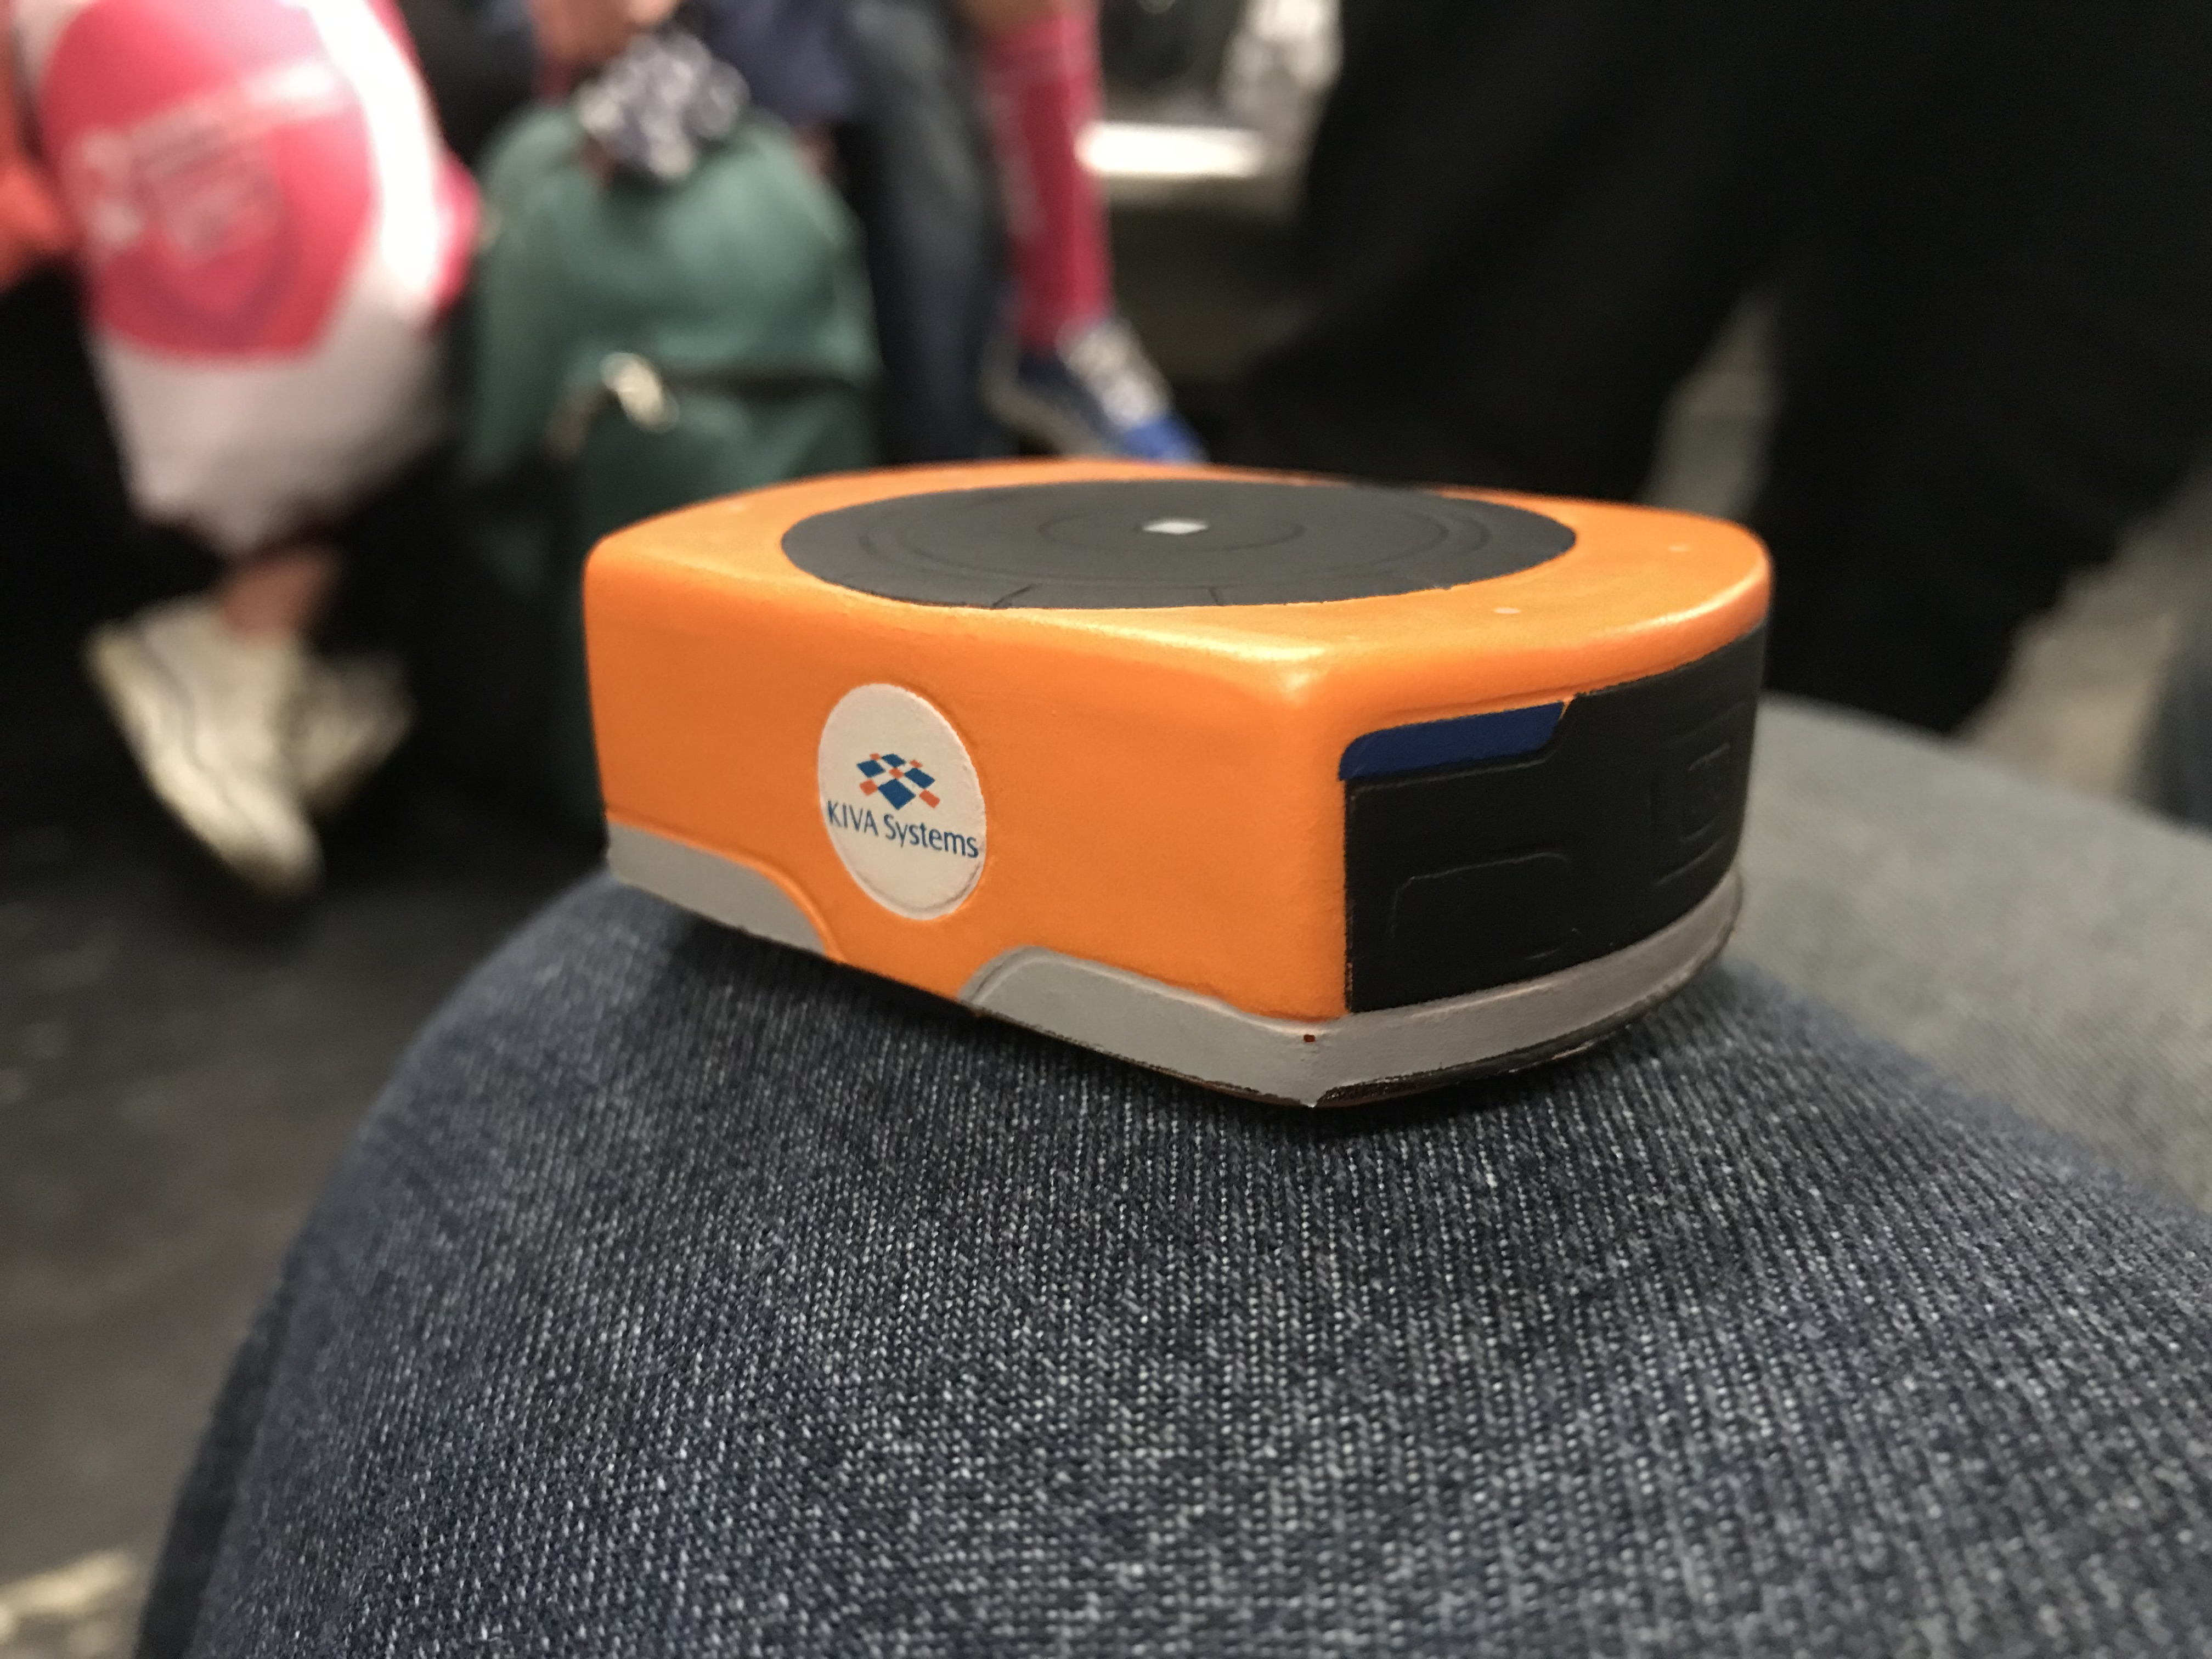amazon_bot: (573, 437, 1796, 1161)
